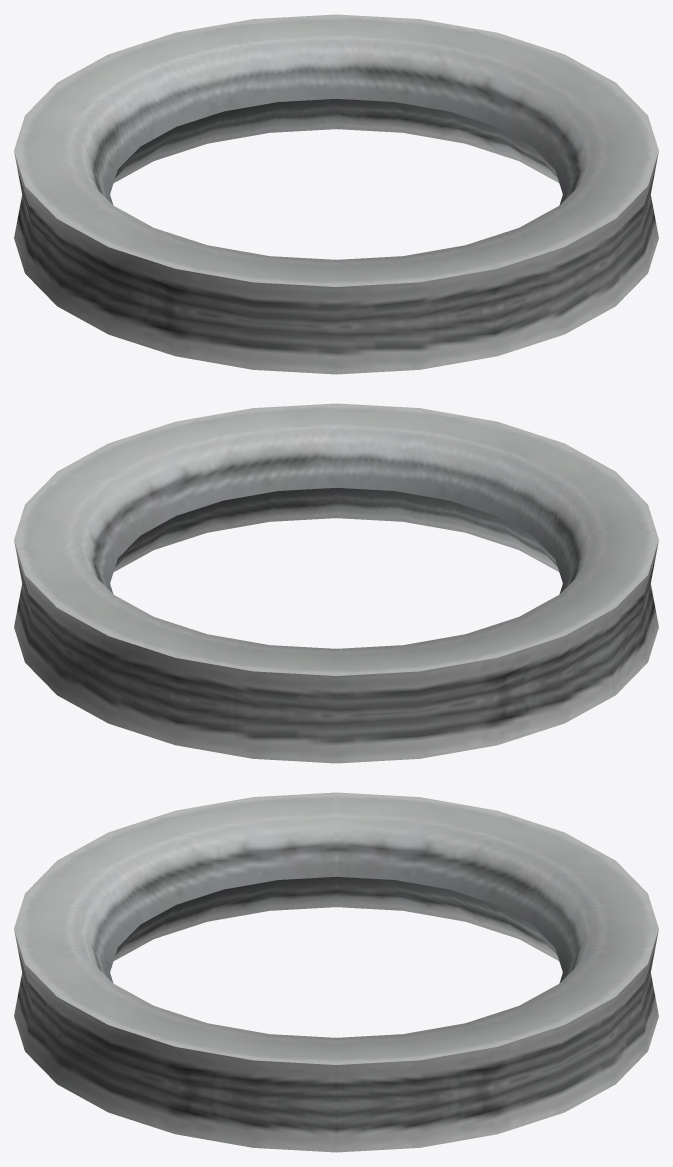
The model's file is Part - Addon 05-BJfptoyC.glb.
3 renders of one model, top to bottom at view 1: azimuth 30°, elevation 25°; view 2: azimuth 150°, elevation 25°; view 3: azimuth 270°, elevation 25°, orthographic.
Parts seen in each view (by area): view 1: Addon_05; view 2: Addon_05; view 3: Addon_05.
Part boxes in pixels (<box>): Addon_05: <box>14,14,658,374</box>; Addon_05: <box>14,403,658,763</box>; Addon_05: <box>14,792,658,1152</box>.
Size of the model in its own units: 1.33 by 0.1988 by 1.33.
Materials: 1 (1 with a texture image).
